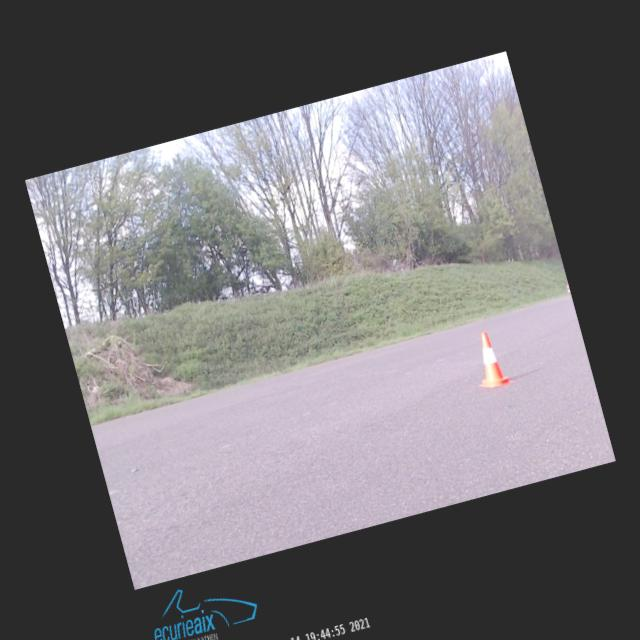orange_cone: (466, 327, 514, 391)
